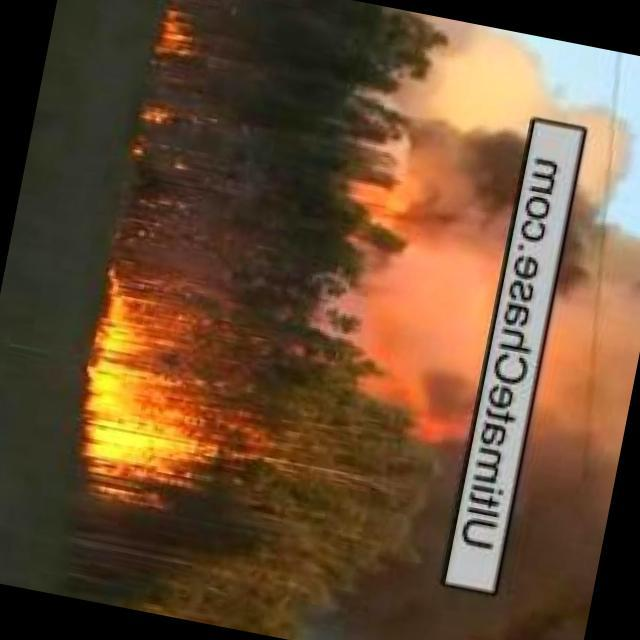Fire: (76, 288, 203, 493), (351, 163, 413, 230), (383, 394, 459, 446), (154, 7, 200, 69), (132, 102, 170, 166)
